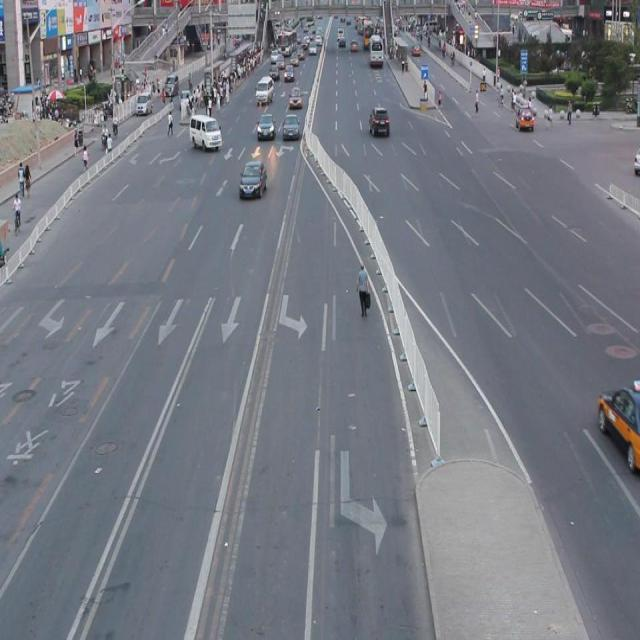car: (596, 381, 640, 473), (238, 158, 267, 200)
